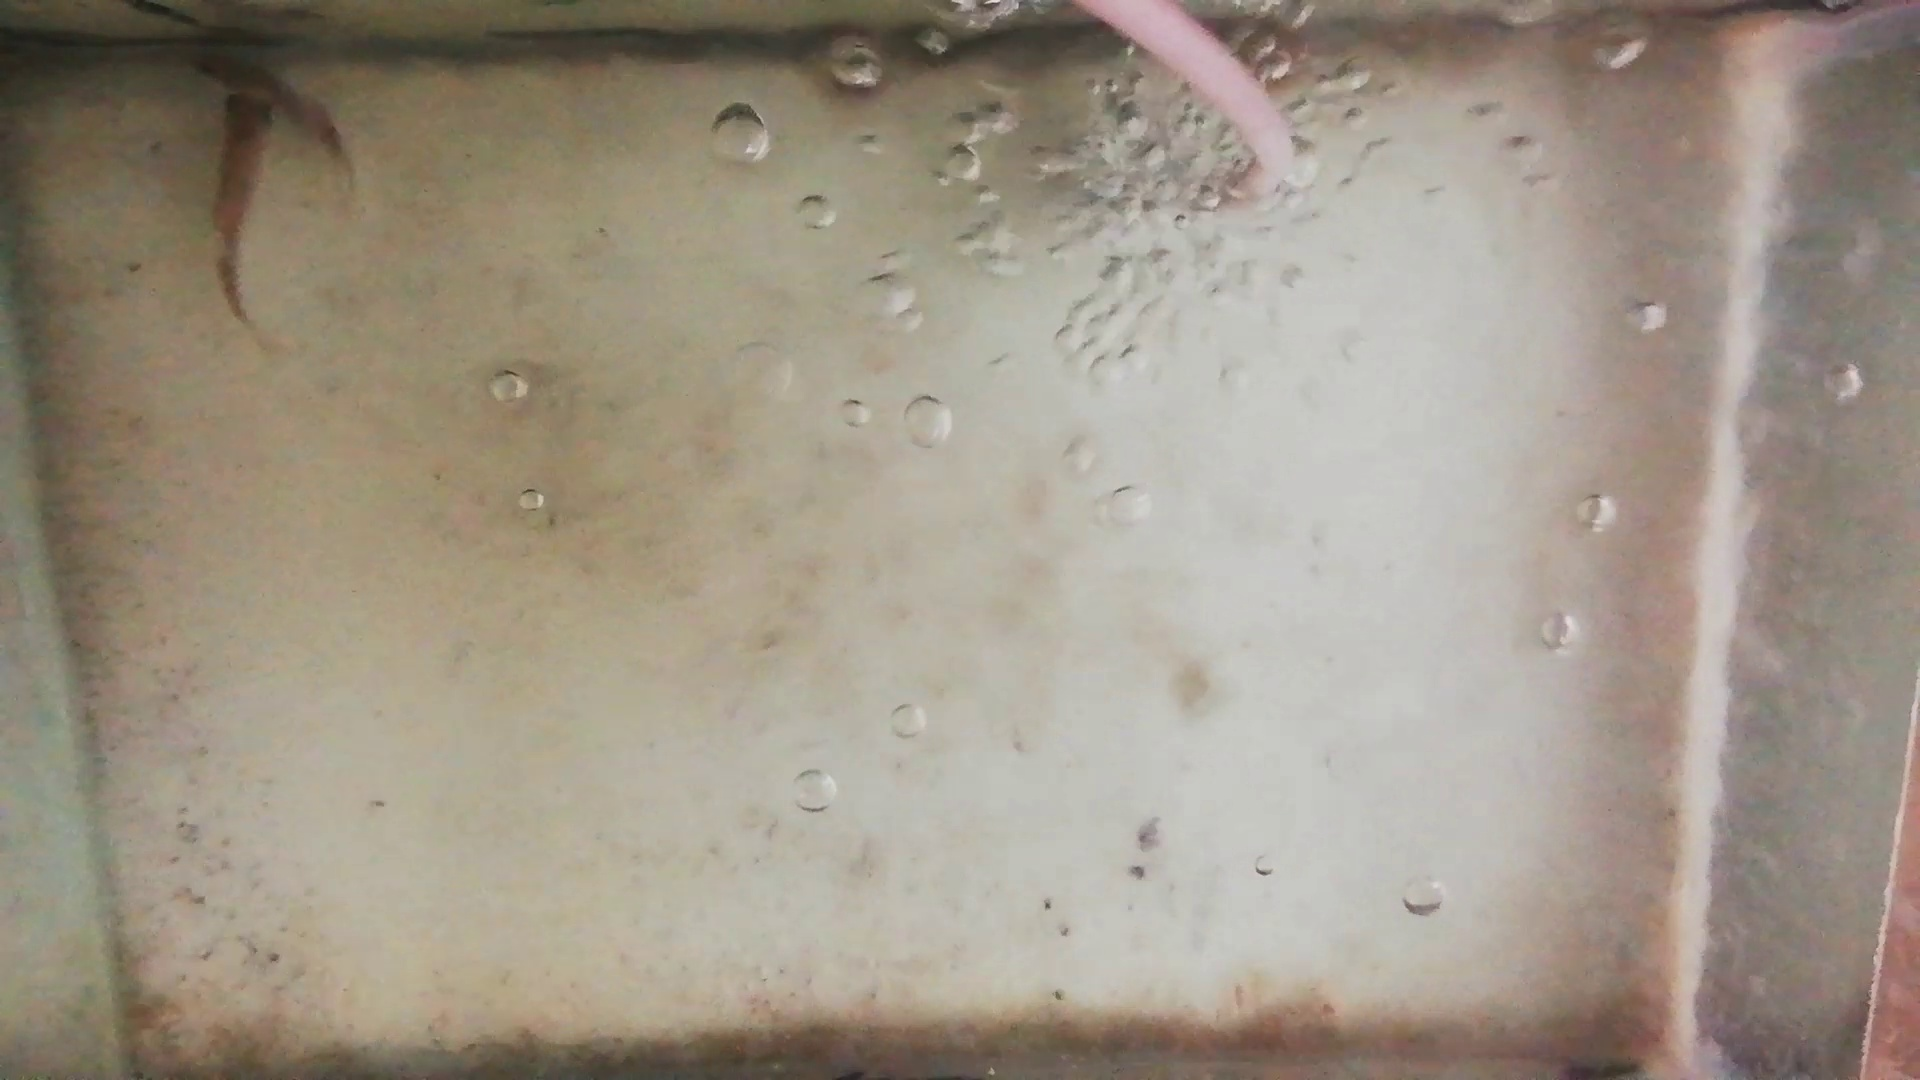fish: (179, 41, 344, 156), (214, 94, 273, 320)
